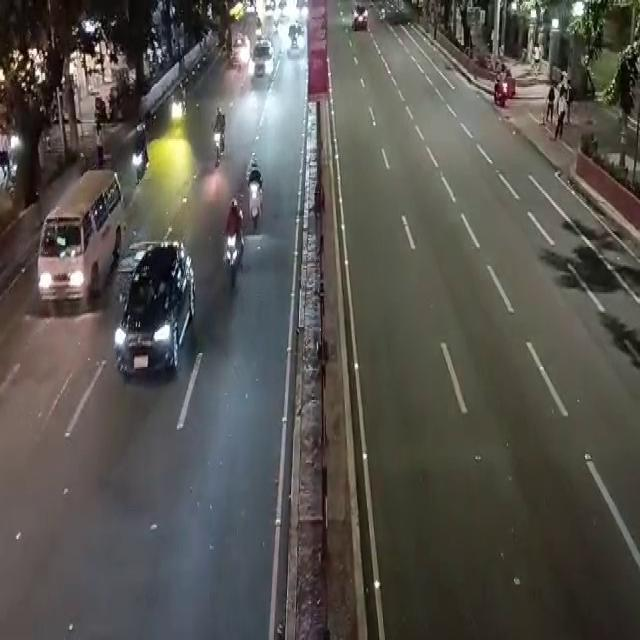car: (23, 172, 122, 298), (114, 256, 191, 394), (252, 48, 276, 86), (351, 4, 375, 36)
motorcycle: (228, 207, 244, 296), (127, 127, 151, 186), (206, 103, 229, 159), (489, 62, 513, 114), (170, 82, 194, 132), (250, 153, 264, 231)
